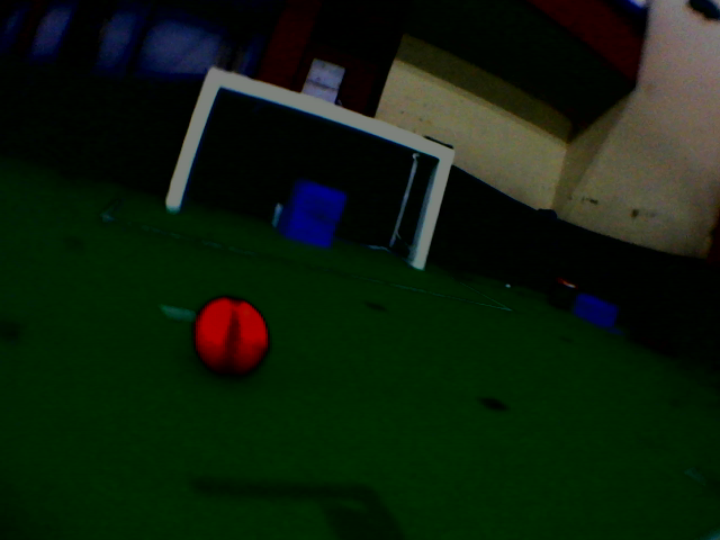bola: (185, 290, 273, 380)
